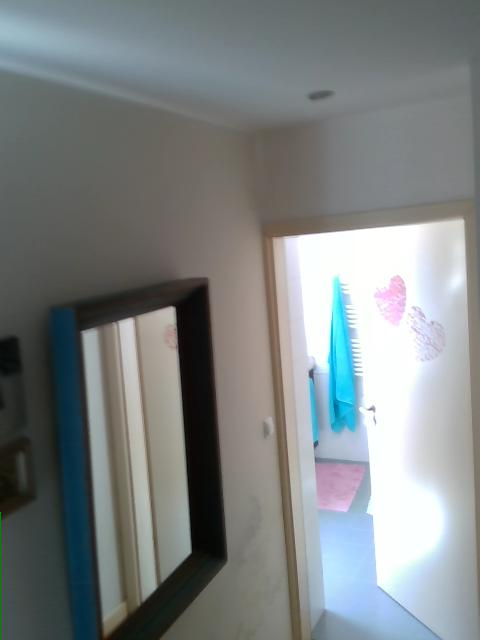semi_door: (258, 198, 479, 639)
